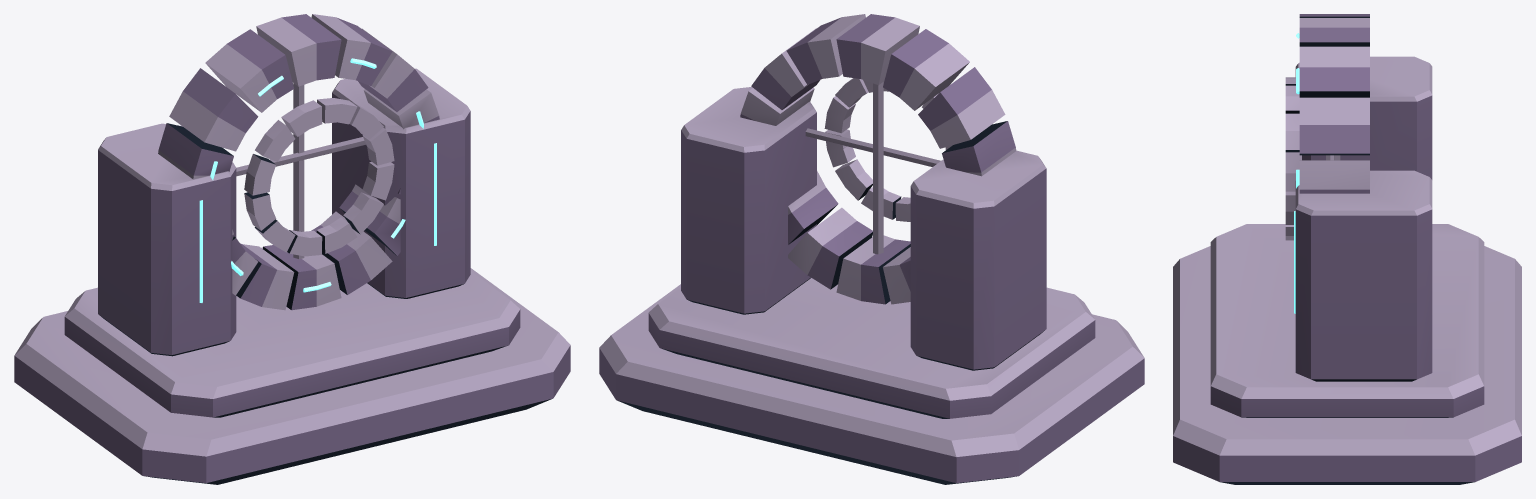
The model's file is sanctuary-reliquary.glb.
The picture shows the model from 3 angles, left to right: view 1: azimuth 30°, elevation 25°; view 2: azimuth 150°, elevation 25°; view 3: azimuth 270°, elevation 25°; orthographic projection.
Visible parts, largest first — view 1: sanctuary-reliquary; view 2: sanctuary-reliquary; view 3: sanctuary-reliquary.
Part boxes in pixels (x1,y1,x2,y2): sanctuary-reliquary: [14, 14, 570, 484]; sanctuary-reliquary: [599, 14, 1144, 484]; sanctuary-reliquary: [1173, 14, 1521, 484].
Size of the model in its own units: 7.72 by 6.26 by 5.46.
